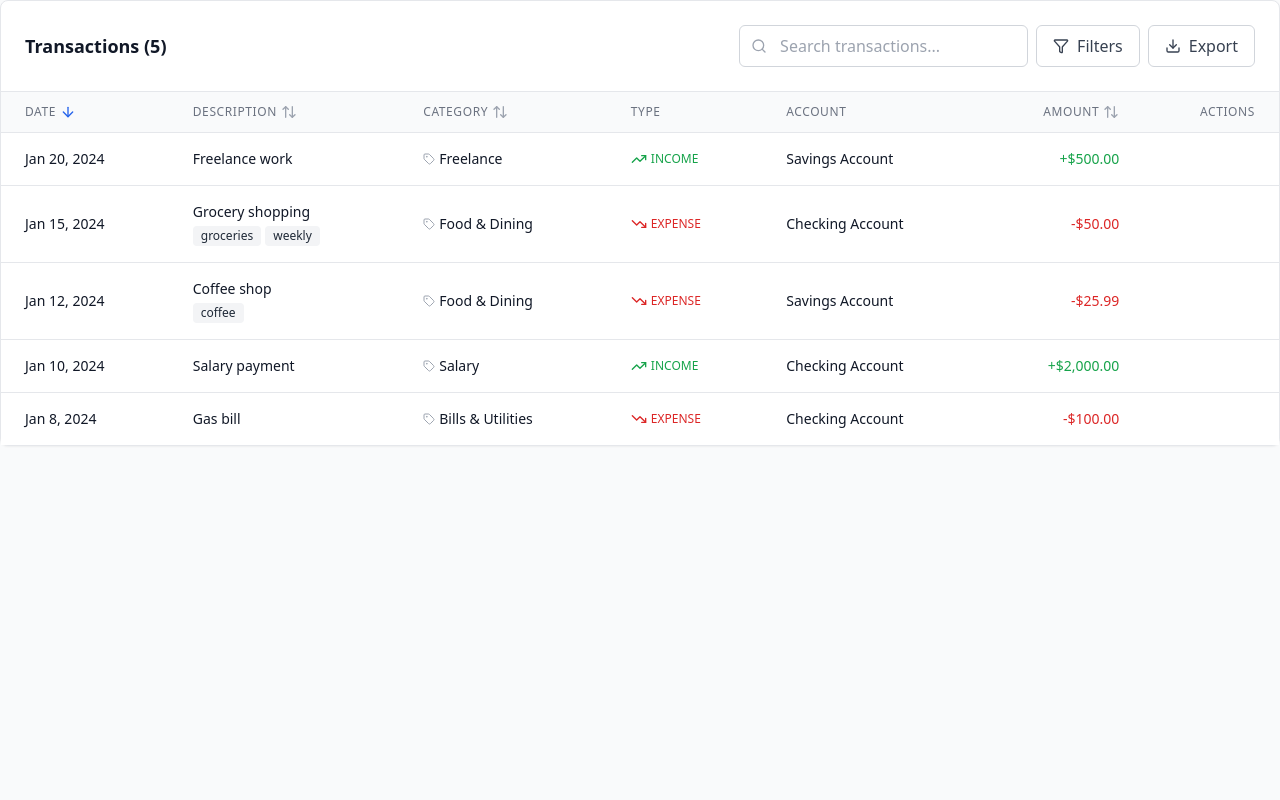
TransactionList › Filter Functionality › shows and hides filter panel
The image size is (1280, 800).
Expected: the text "Date Period" is not shown
Click to show filters
Click the button "Filters" at coordinates (1088, 46), box [1036,25,1140,67]
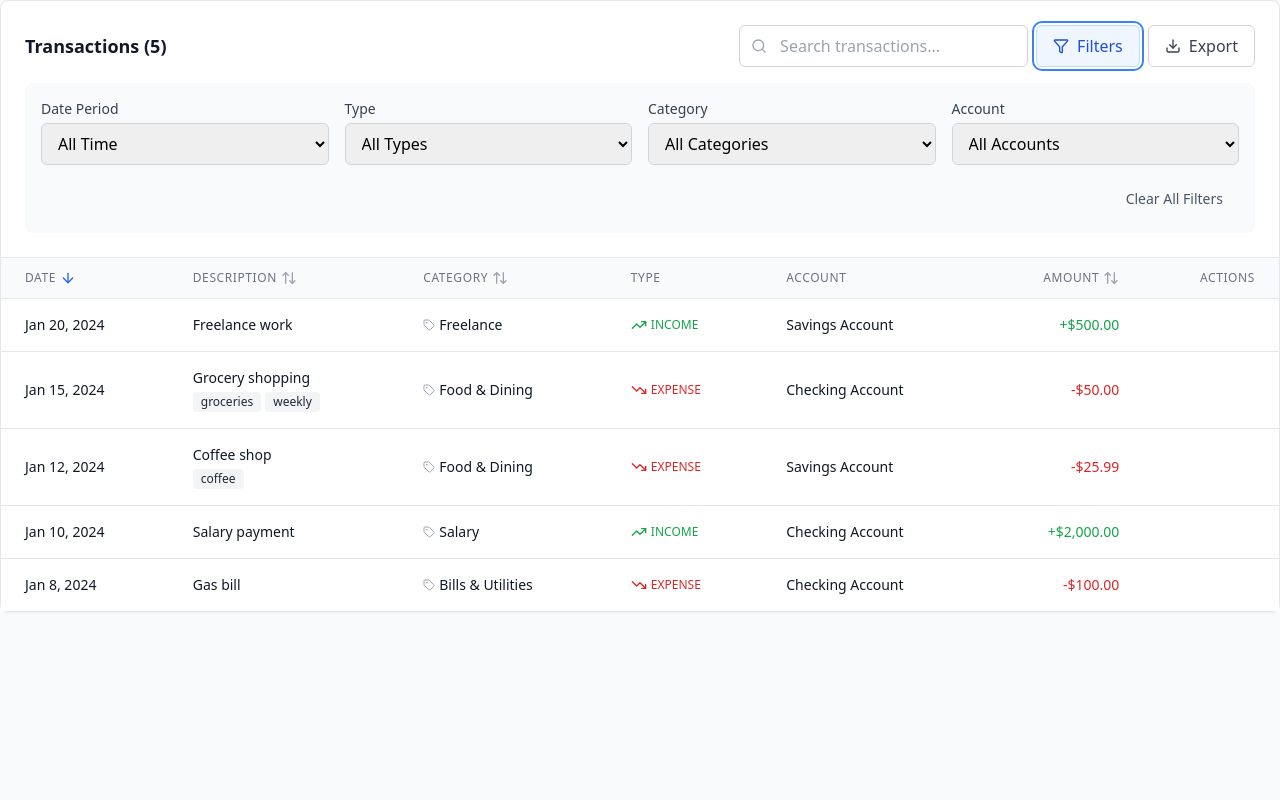
Now the text "Date Period" is shown, box [41,99,118,118]
Click to hide filters
Click the button "Filters" at coordinates (1088, 46), box [1036,25,1140,67]
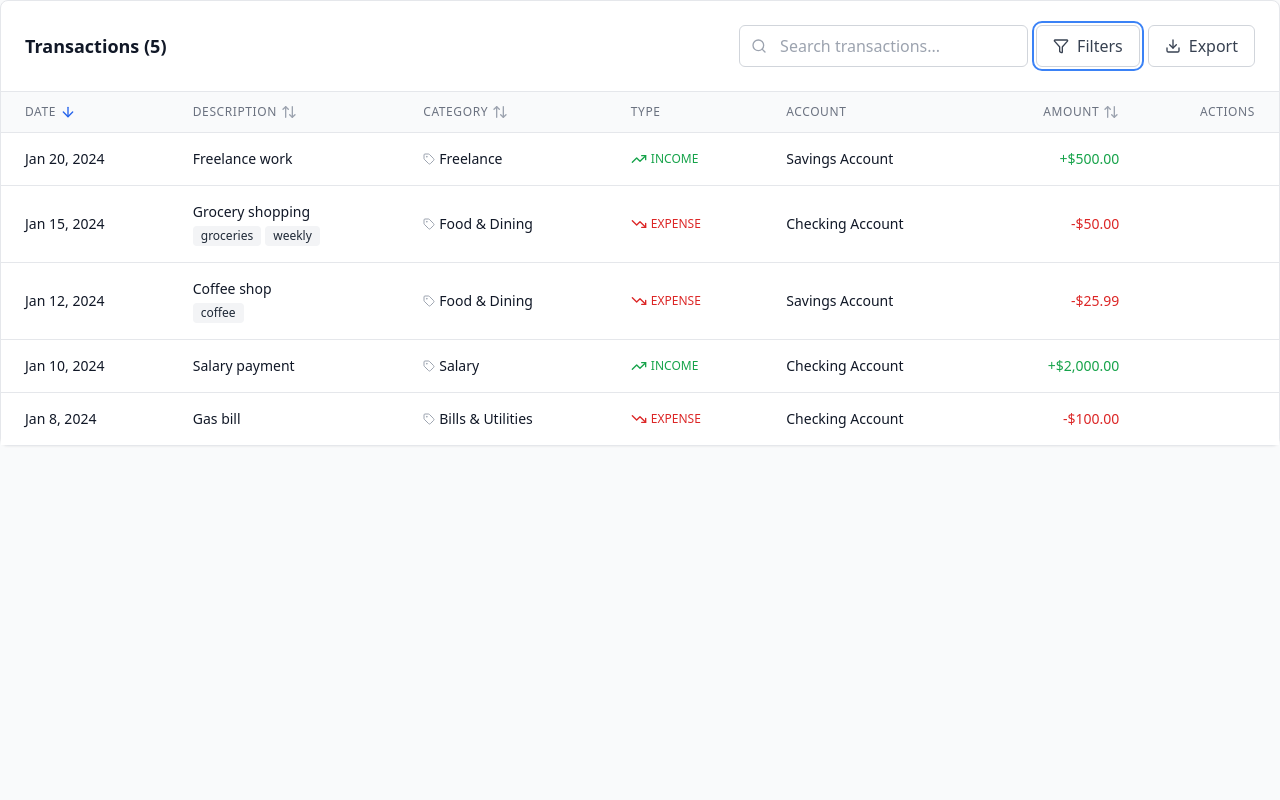
Now the text "Date Period" is gone
